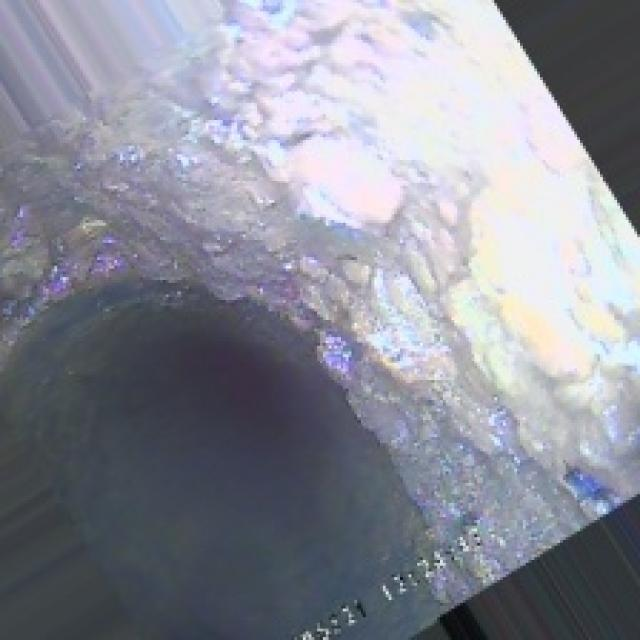encrustation: (246, 46, 528, 420)
